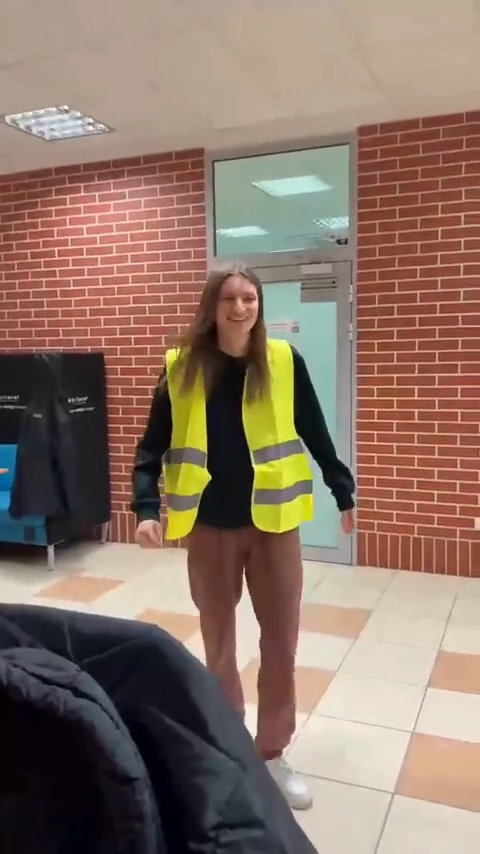vest: (138, 262, 353, 827)
